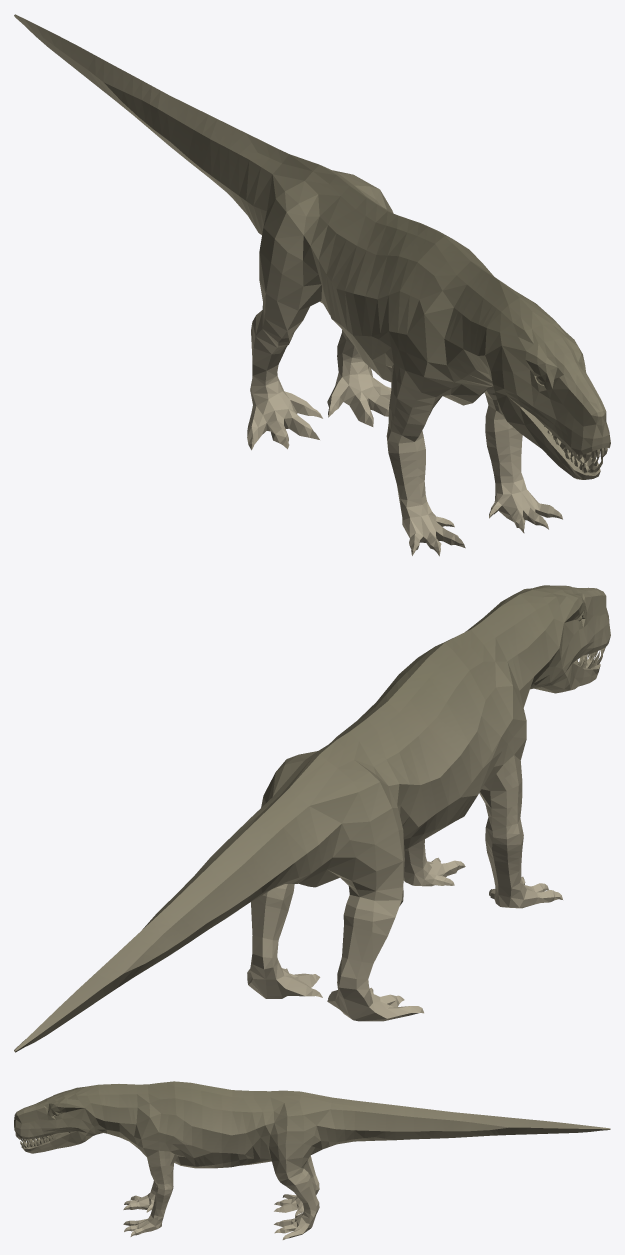
File: saurosuchus.glb
3 views of the same model, one above another, from view 1: azimuth 30°, elevation 25°; view 2: azimuth 150°, elevation 25°; view 3: azimuth 270°, elevation 25° (orthographic). The views are drawn at different scales.
Parts seen in each view (by area): view 1: world; view 2: world; view 3: world.
Part boxes in pixels (bbox=[...]): world: bbox=[14, 14, 610, 556]; world: bbox=[14, 585, 610, 1052]; world: bbox=[14, 1081, 610, 1239].
Size of the model in its own units: 2.07 by 3.11 by 12.21.
